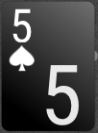Spade: (9, 45, 36, 72)
